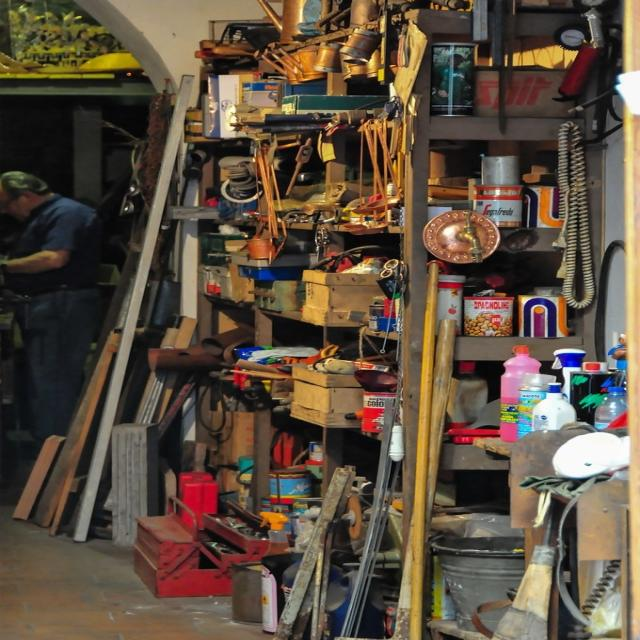Plastics: (416, 158, 640, 455), (416, 519, 613, 633)
